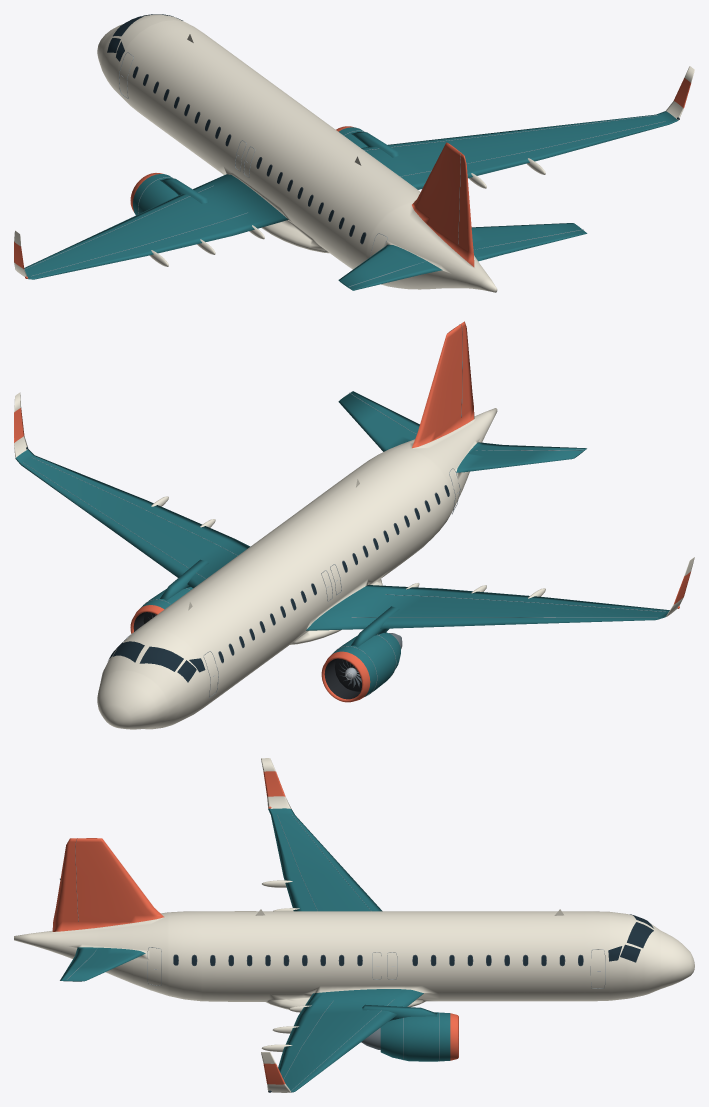
File: airliner.glb
3 views of the same model, one above another, from view 1: azimuth 30°, elevation 25°; view 2: azimuth 150°, elevation 25°; view 3: azimuth 270°, elevation 25° (orthographic). The views are drawn at different scales.
Parts seen in each view (by area): view 1: airliner; view 2: airliner; view 3: airliner.
Part boxes in pixels (x1=…): airliner: x1=14, y1=14, x2=694, y2=292; airliner: x1=14, y1=321, x2=694, y2=729; airliner: x1=14, y1=758, x2=694, y2=1092.
Size of the model in its own units: 9.62 by 2.74 by 9.42.
